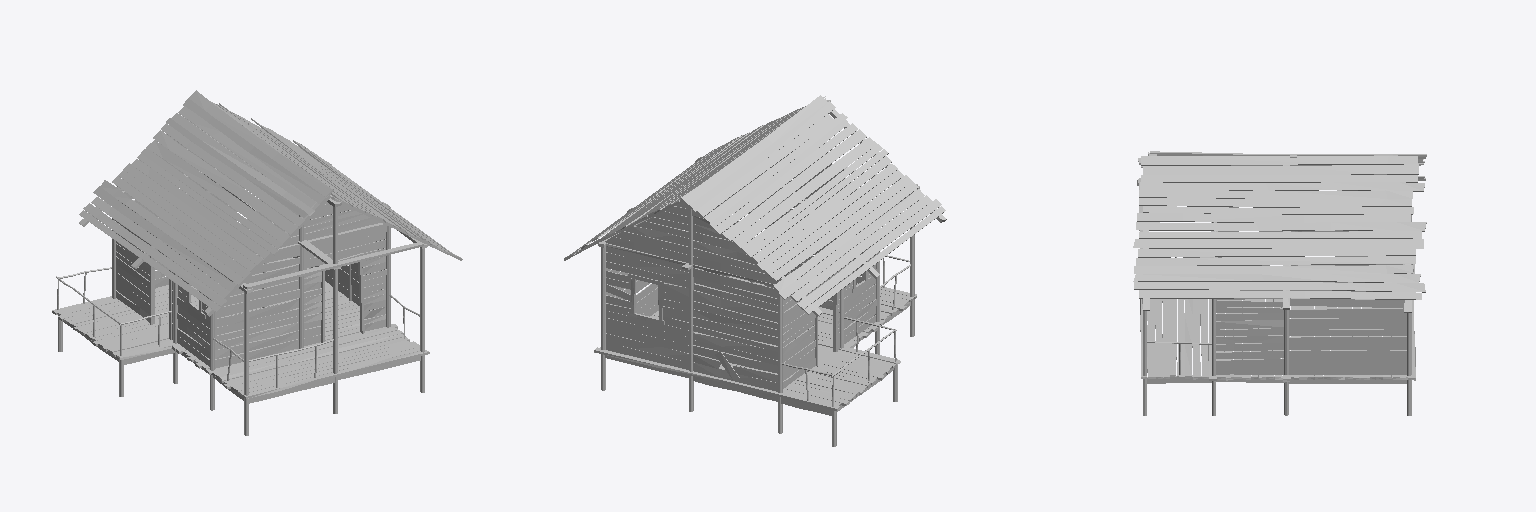
File: casa.obj
3 views of the same model, side by side, from view 1: azimuth 30°, elevation 25°; view 2: azimuth 150°, elevation 25°; view 3: azimuth 270°, elevation 25° (orthographic).
Visible parts, largest first — view 1: roof, floor, wall_1, structure_1, structure_2, wall_4, wall_5, wall_2; view 2: roof, wall_3, floor, wall_5, structure_1, wall_4, structure_2, wall_2; view 3: roof, wall_2, floor, structure_1, structure_2.
Part boxes in pixels (x1,y1,x2,y2): roof: (79,90,454,311); floor: (52,257,429,398); wall_1: (215,226,386,368); structure_1: (56,130,424,435); structure_2: (63,120,462,403); wall_4: (115,203,209,366); wall_5: (117,117,380,257); wall_2: (293,210,384,310); roof: (568,95,945,314); wall_3: (606,246,777,391); floor: (594,258,916,410); wall_5: (605,157,867,283); structure_1: (601,144,914,446); wall_4: (783,232,876,388); structure_2: (564,98,946,415); wall_2: (606,206,701,316); roof: (1133,151,1426,299); wall_2: (1216,282,1406,374); floor: (1140,264,1415,381); structure_1: (1142,215,1412,415); structure_2: (1137,153,1413,383).
Bounding box in the file's own units: 763 × 582 × 700.